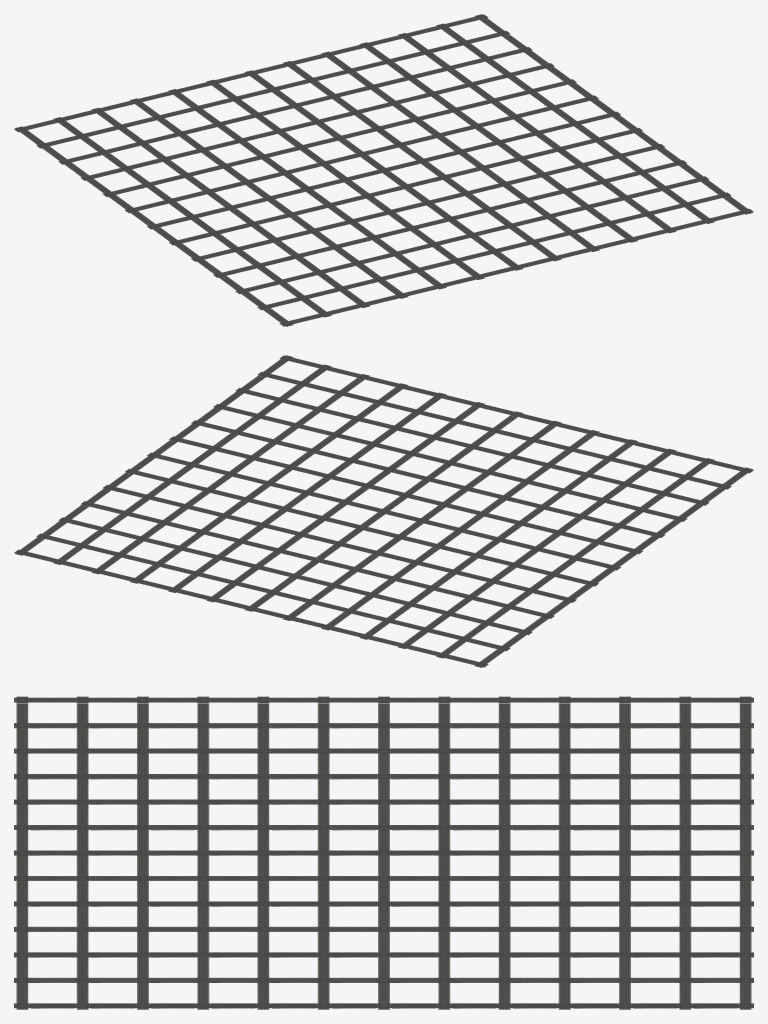
File: fullCityRoadSystem.fbx
3 renders of one model, top to bottom at view 1: azimuth 30°, elevation 25°; view 2: azimuth 150°, elevation 25°; view 3: azimuth 270°, elevation 25°, orthographic. The views are drawn at different scales.
Parts seen in each view (by area): view 1: LongRoad.001, LongRoad.002, Plane; view 2: LongRoad.001, LongRoad.002, Plane; view 3: LongRoad.002, LongRoad.001, Plane.
Part boxes in pixels (box(x1,y1,x2,y2)): LongRoad.001: box(25, 17, 742, 323); LongRoad.002: box(21, 19, 746, 322); Plane: box(14, 14, 753, 326); LongRoad.001: box(25, 358, 742, 664); LongRoad.002: box(21, 360, 746, 663); Plane: box(14, 355, 753, 667); LongRoad.002: box(31, 697, 736, 1008); LongRoad.001: box(16, 703, 751, 1002); Plane: box(14, 696, 753, 1009).
Size of the model in its own units: 136306 by 47.81 by 136264.
Materials: 1 (1 with a texture image).
